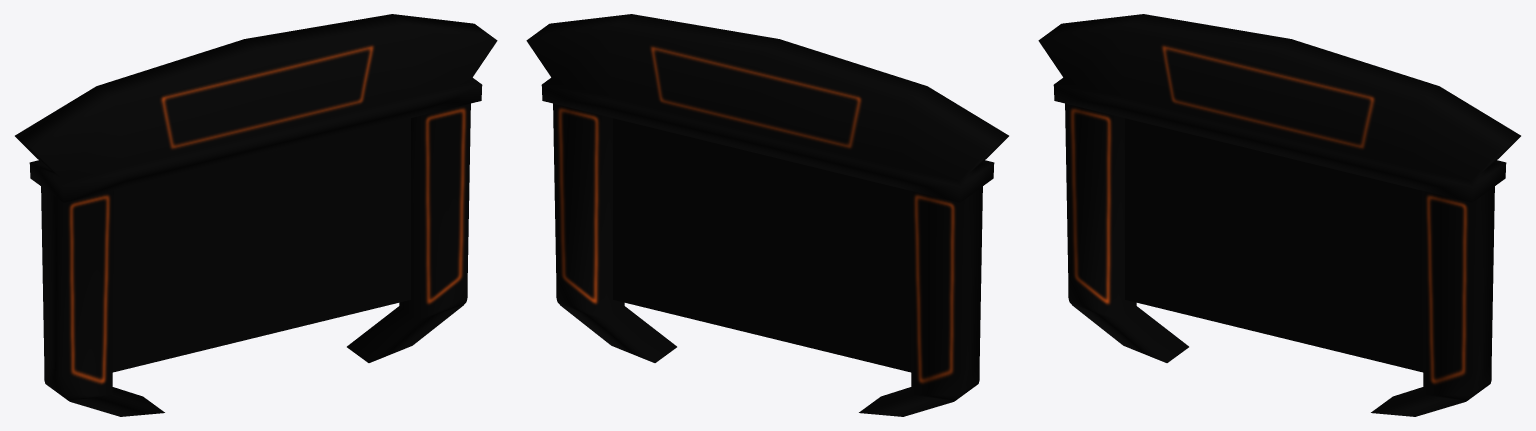
The model's file is MirrorGate.fbx.
3 views of the same model, side by side, from view 1: azimuth 30°, elevation 25°; view 2: azimuth 150°, elevation 25°; view 3: azimuth 330°, elevation 25° (orthographic).
Visible parts, largest first — view 1: MirrorGate, Mirror; view 2: MirrorGate, Mirror; view 3: MirrorGate, Mirror.
Boxes of the visible parts, x1,y1,x2,y2 form: MirrorGate: (15, 14, 497, 416); Mirror: (112, 118, 410, 372); MirrorGate: (526, 14, 1008, 416); Mirror: (613, 118, 911, 372); MirrorGate: (1038, 14, 1520, 416); Mirror: (1125, 118, 1423, 372).
Size of the model in its own units: 4.51 by 3.12 by 0.5666.
